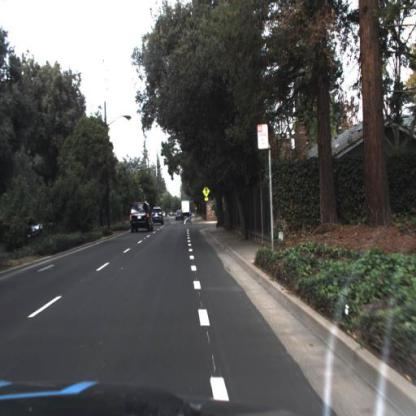car: (130, 202, 153, 233), (152, 206, 164, 230), (181, 200, 191, 216), (175, 210, 185, 222)
truck: (180, 197, 193, 223)
